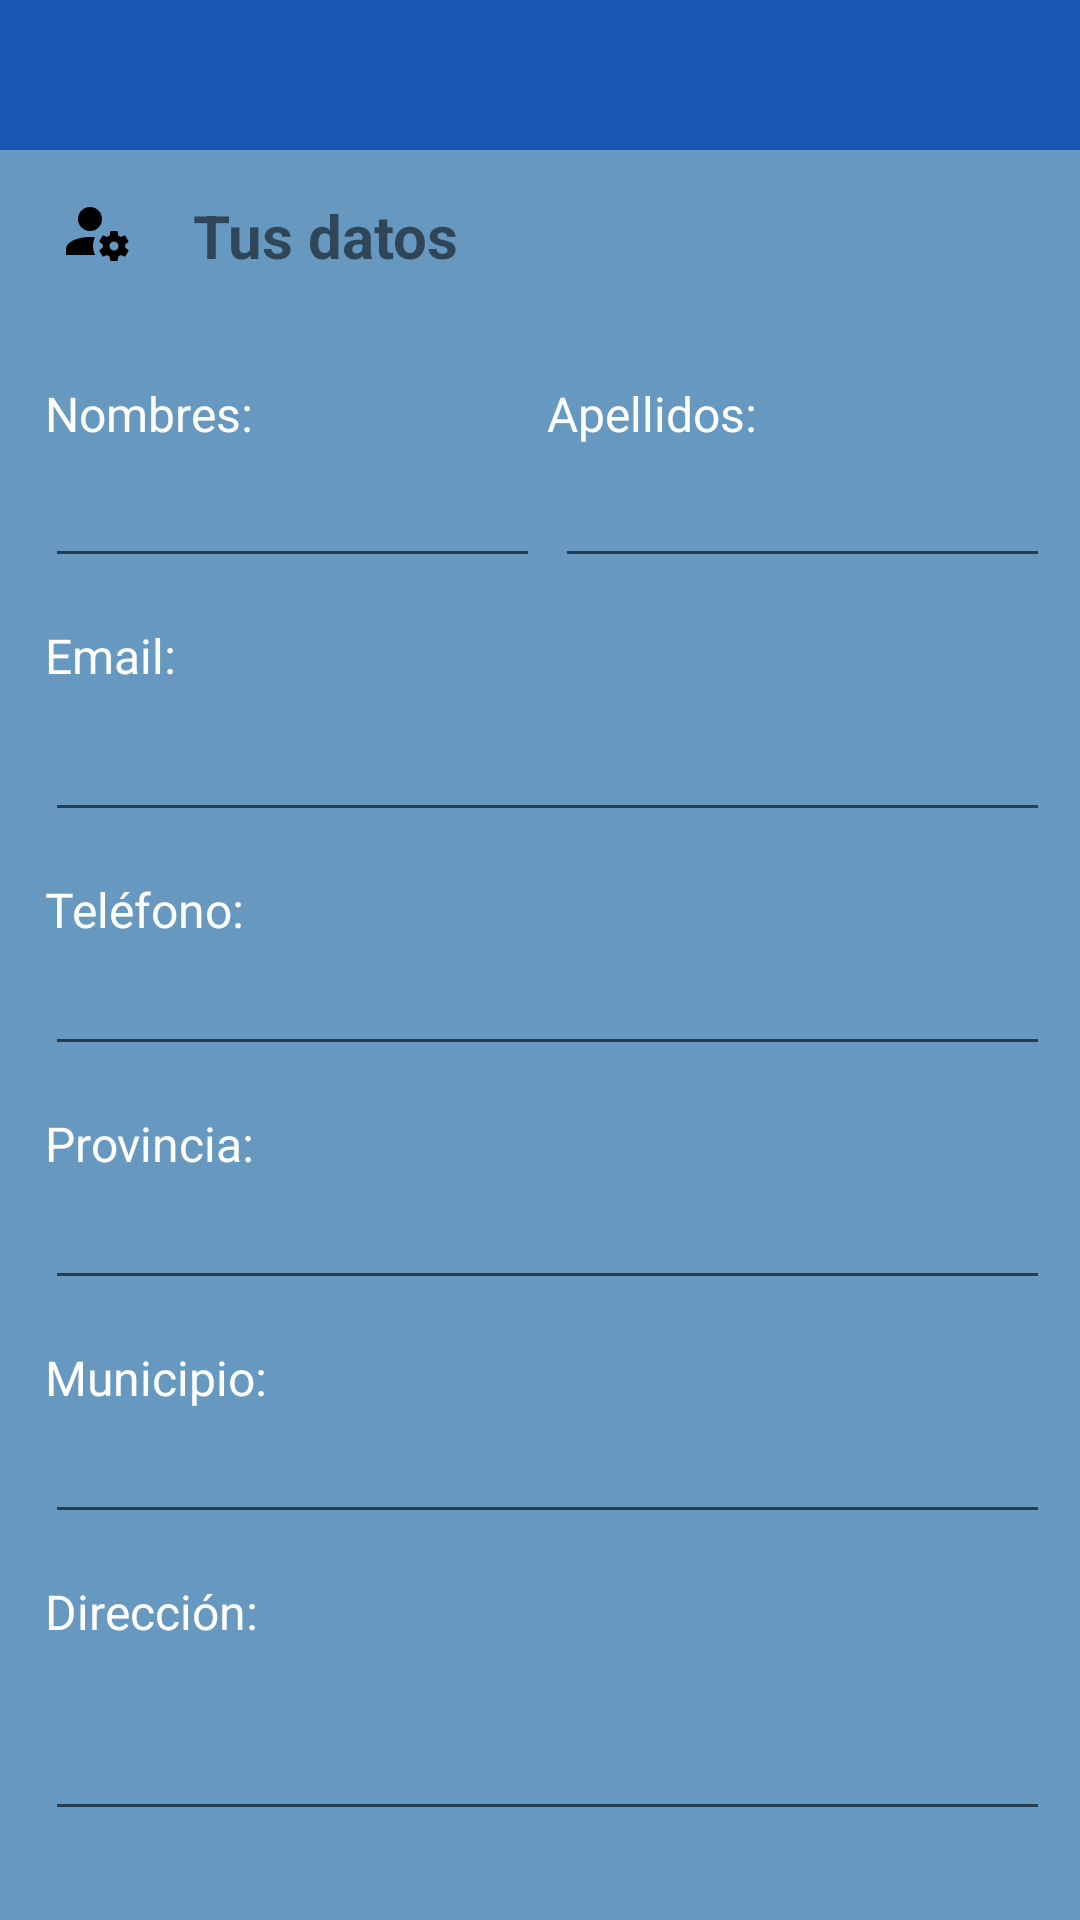

Where to tap for icons on this 1080px×1920px app screen, as (x,y):
usuarioconfig: (97,234)
